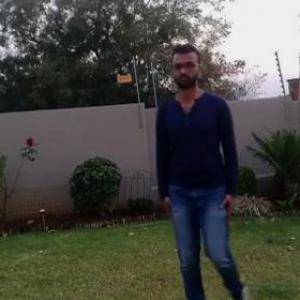follow: (149, 45, 236, 299)
